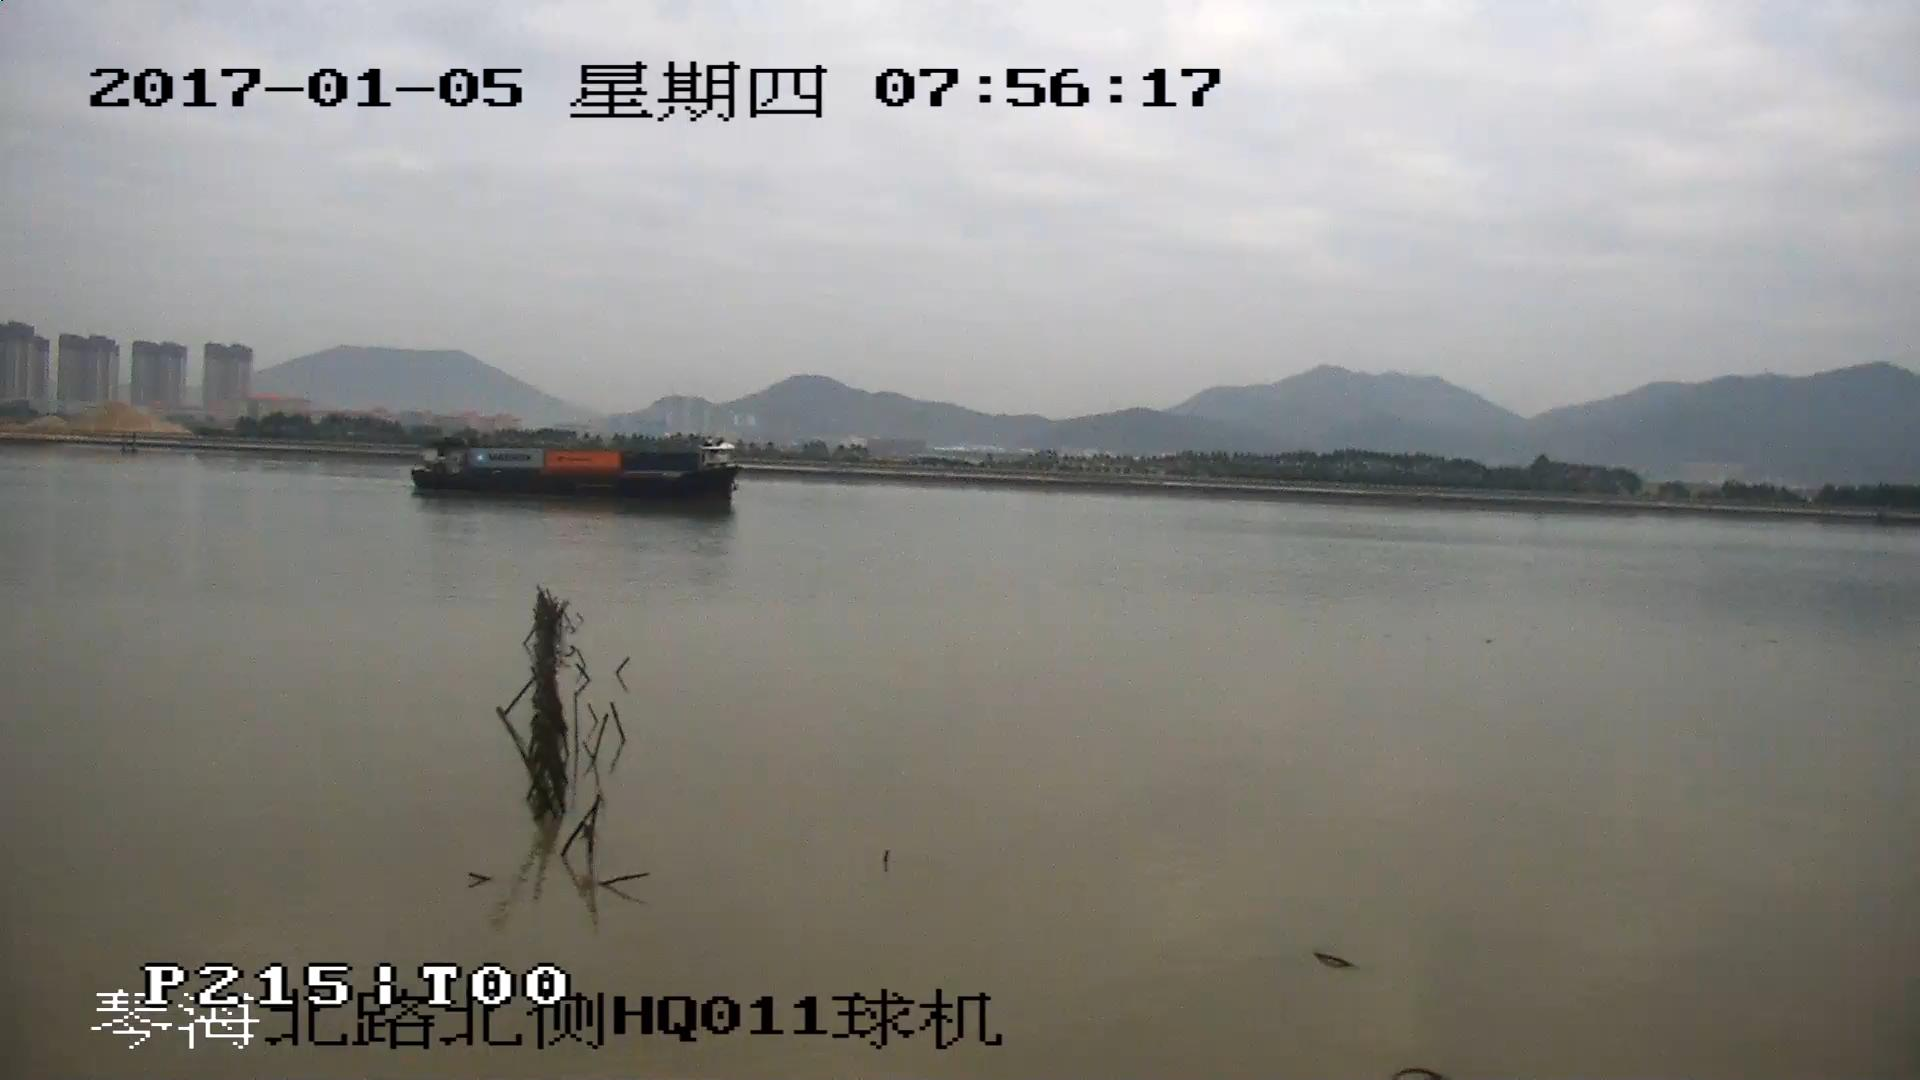container ship: (411, 442, 741, 507)
